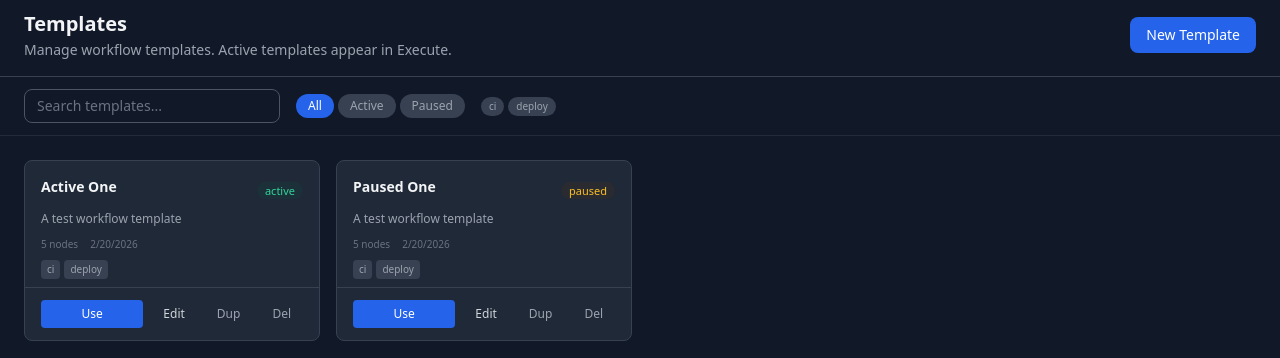
Test: TemplateManagerPage › status filter › filters to show only paused templates when "Paused" is clicked
This screenshot has width=1280, height=358.
Expected: the heading "Active One" is shown, [41,177,117,196]
Click the button "Paused": point(432, 106) [400,94,465,118]
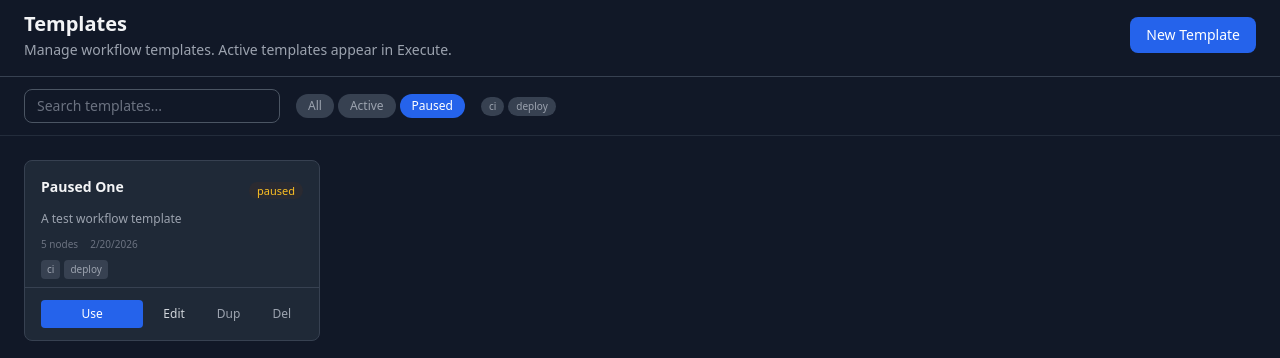
Expected: the heading "Paused One" is shown, [41,177,124,196]
Now the heading "Active One" is gone
